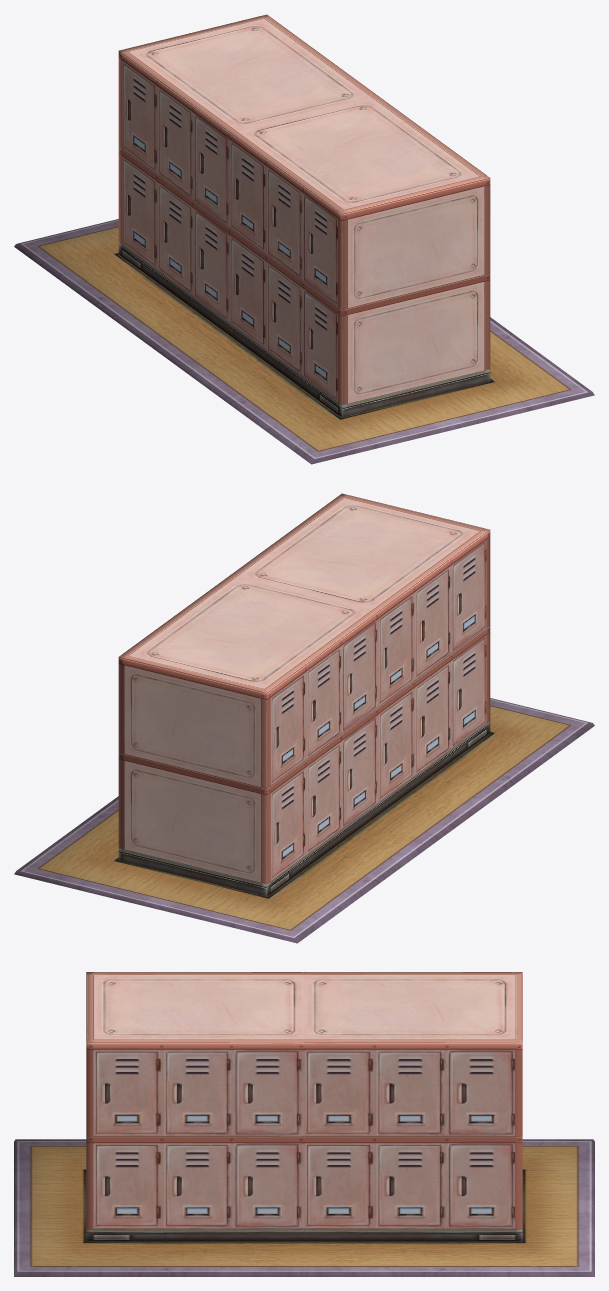
Rendered from a_SCchest02_1.glb.
The picture shows the model from 3 angles, top to bottom: view 1: azimuth 30°, elevation 25°; view 2: azimuth 150°, elevation 25°; view 3: azimuth 270°, elevation 25°; orthographic projection. The views are drawn at different scales.
Parts seen in each view (by area): view 1: a_SCchest02_1; view 2: a_SCchest02_1; view 3: a_SCchest02_1.
Part boxes in pixels (bbox=[...]): a_SCchest02_1: bbox=[14, 14, 594, 464]; a_SCchest02_1: bbox=[14, 493, 594, 943]; a_SCchest02_1: bbox=[14, 972, 594, 1276].
Size of the model in its own units: 2.33 by 1.62 by 4.24.
1 material, 1 textured.
